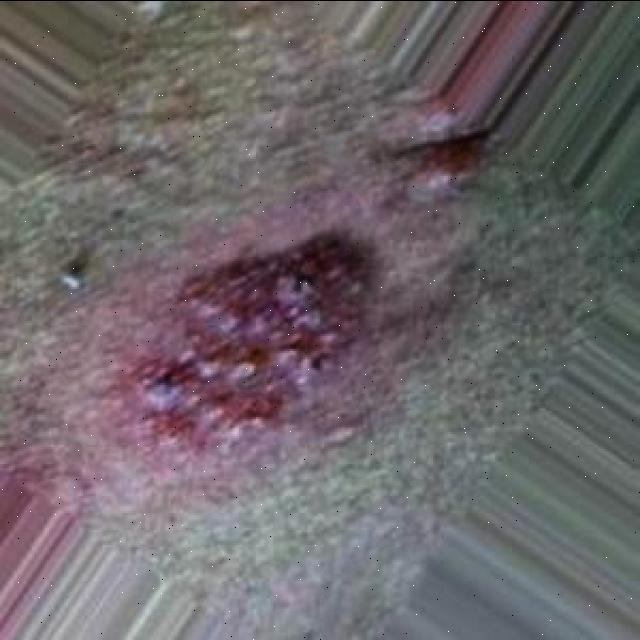Shingles: (141, 231, 378, 450)
